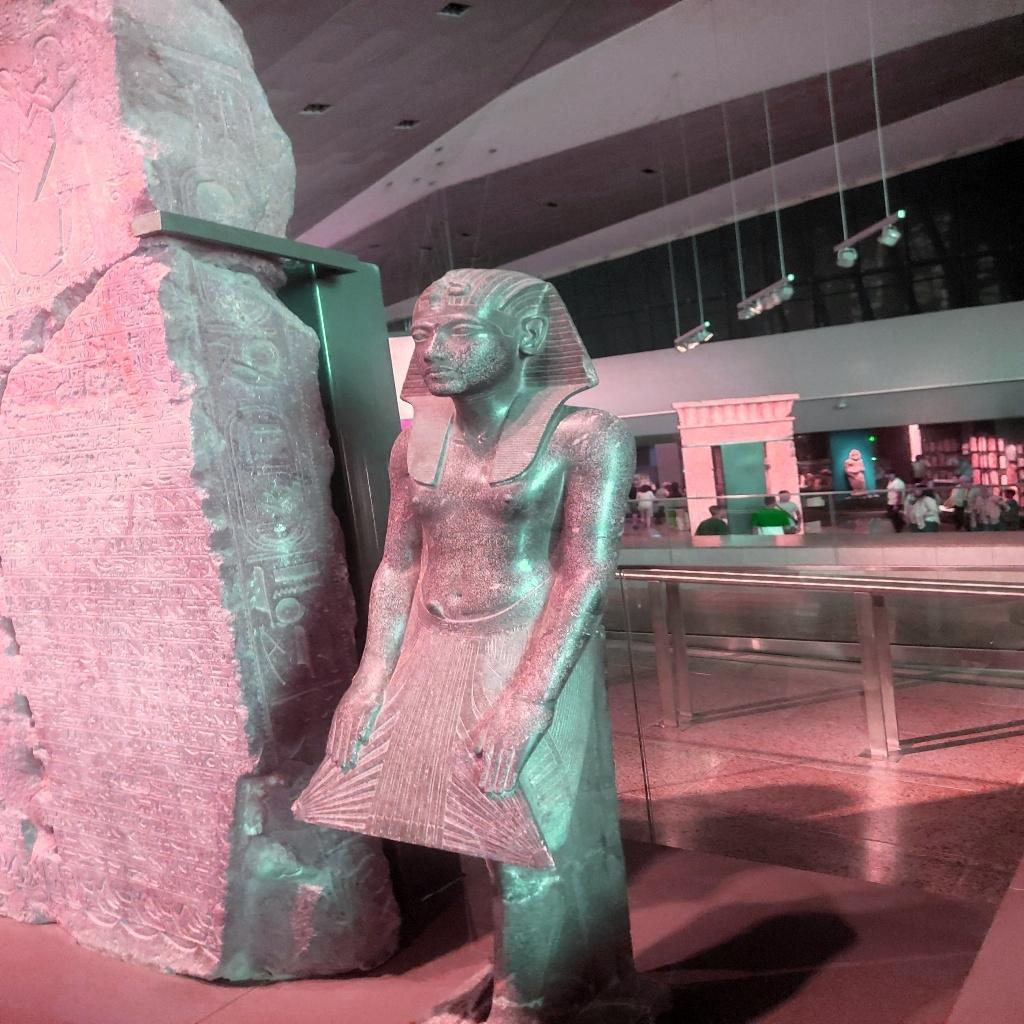Granite Statue of Tutankhamun: (289, 264, 664, 1021)
